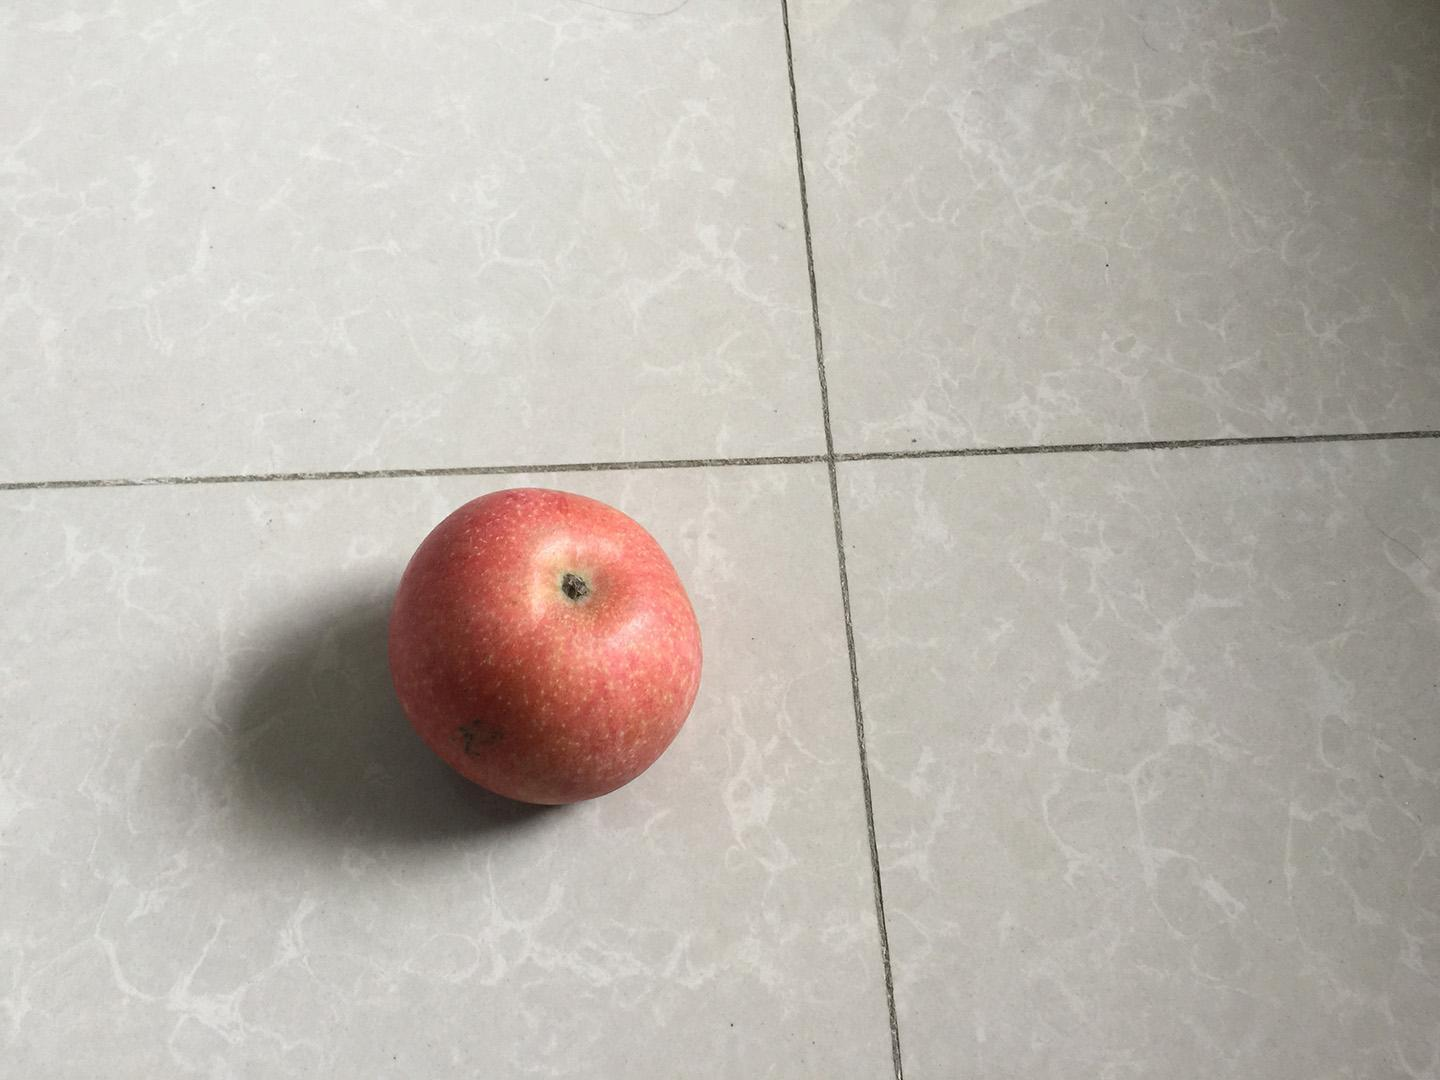apple: (383, 480, 711, 812)
